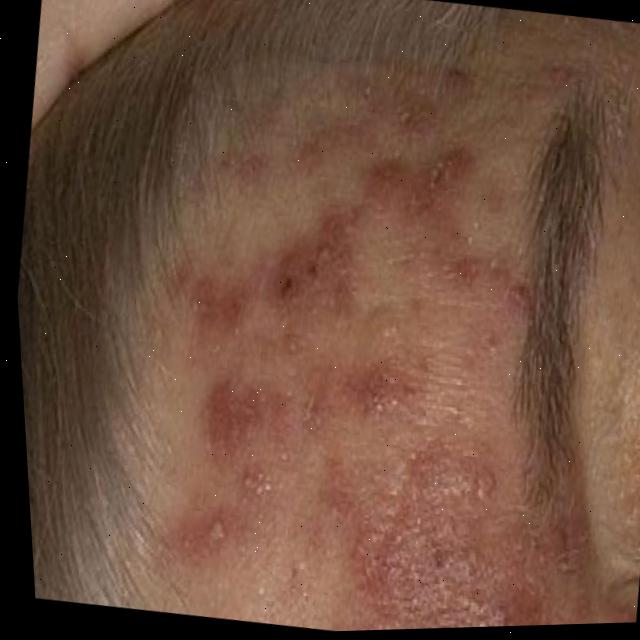Rosacea: (119, 74, 583, 621)
